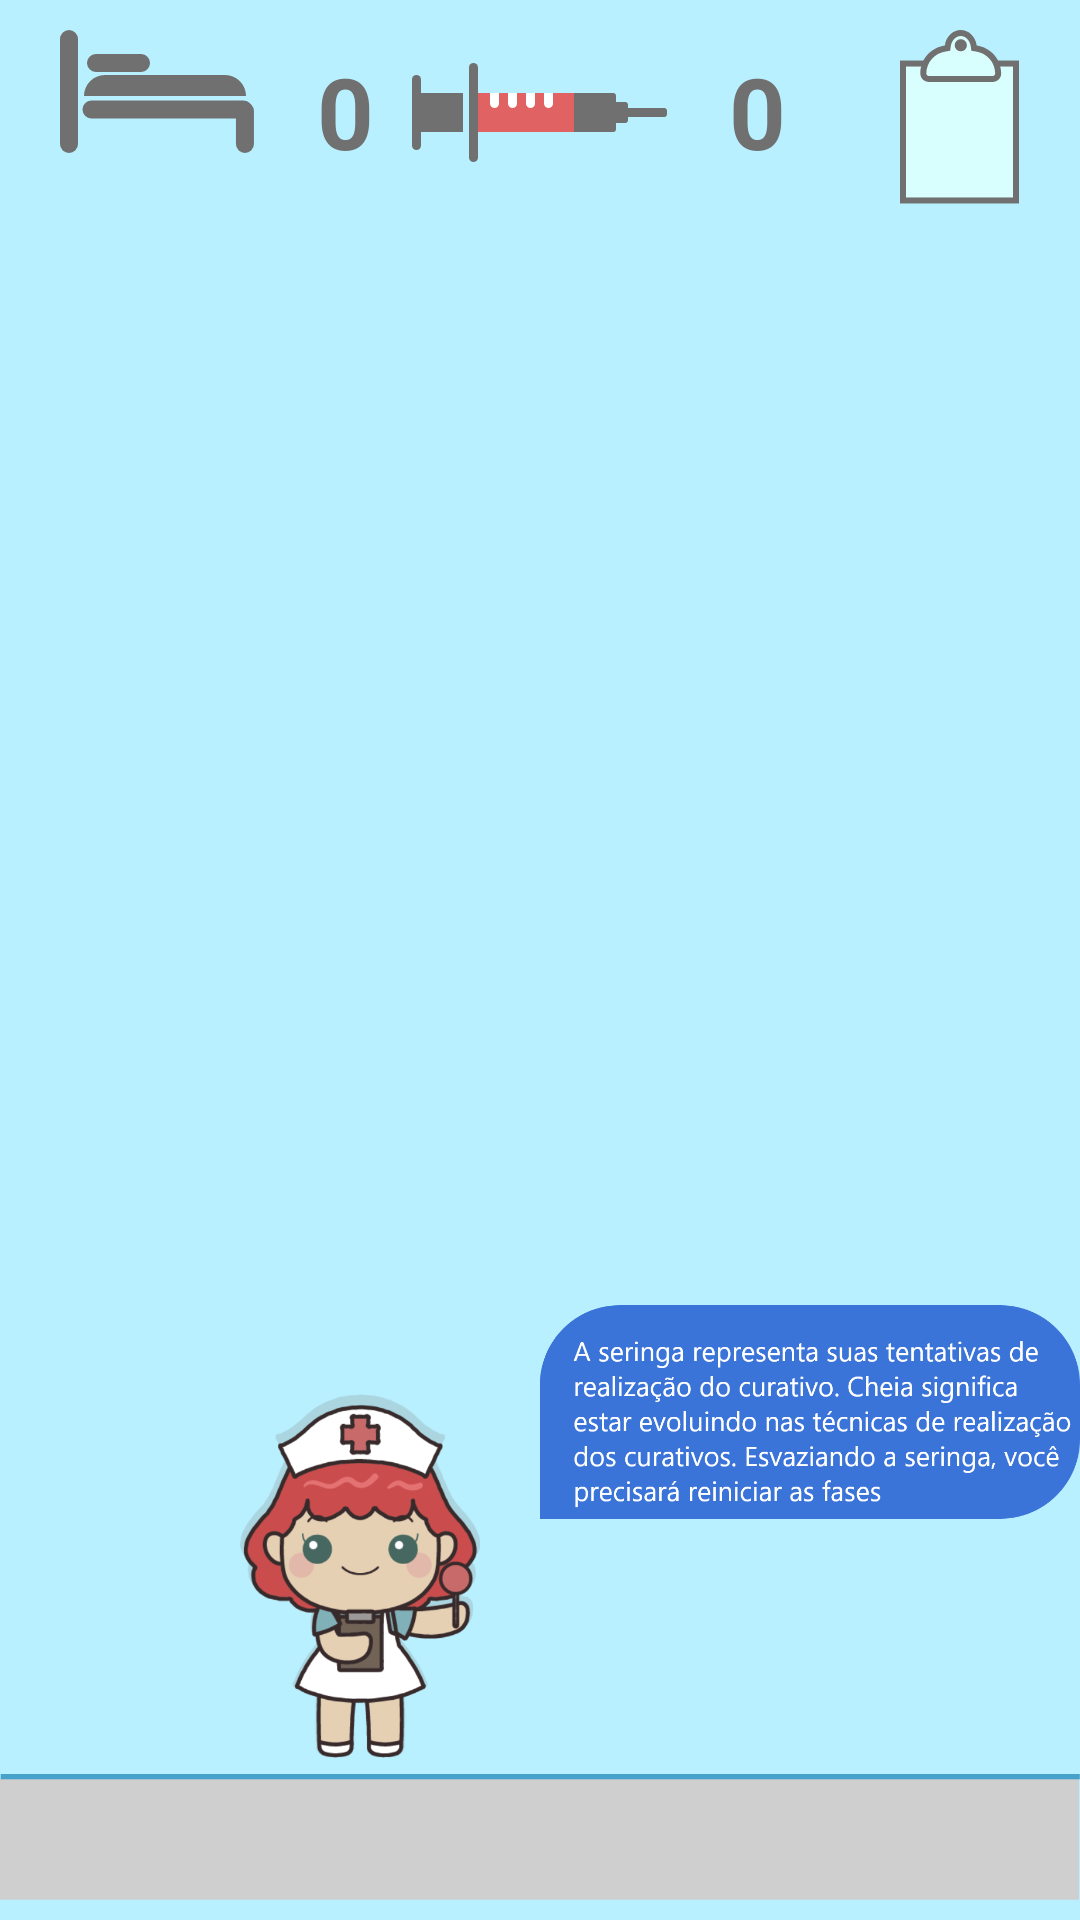

Where to tap for icons on this 1080w x 1920h app screen, as [x,y]:
cama: [157,91]
prontuario: [959,117]
seringa: [539,112]
